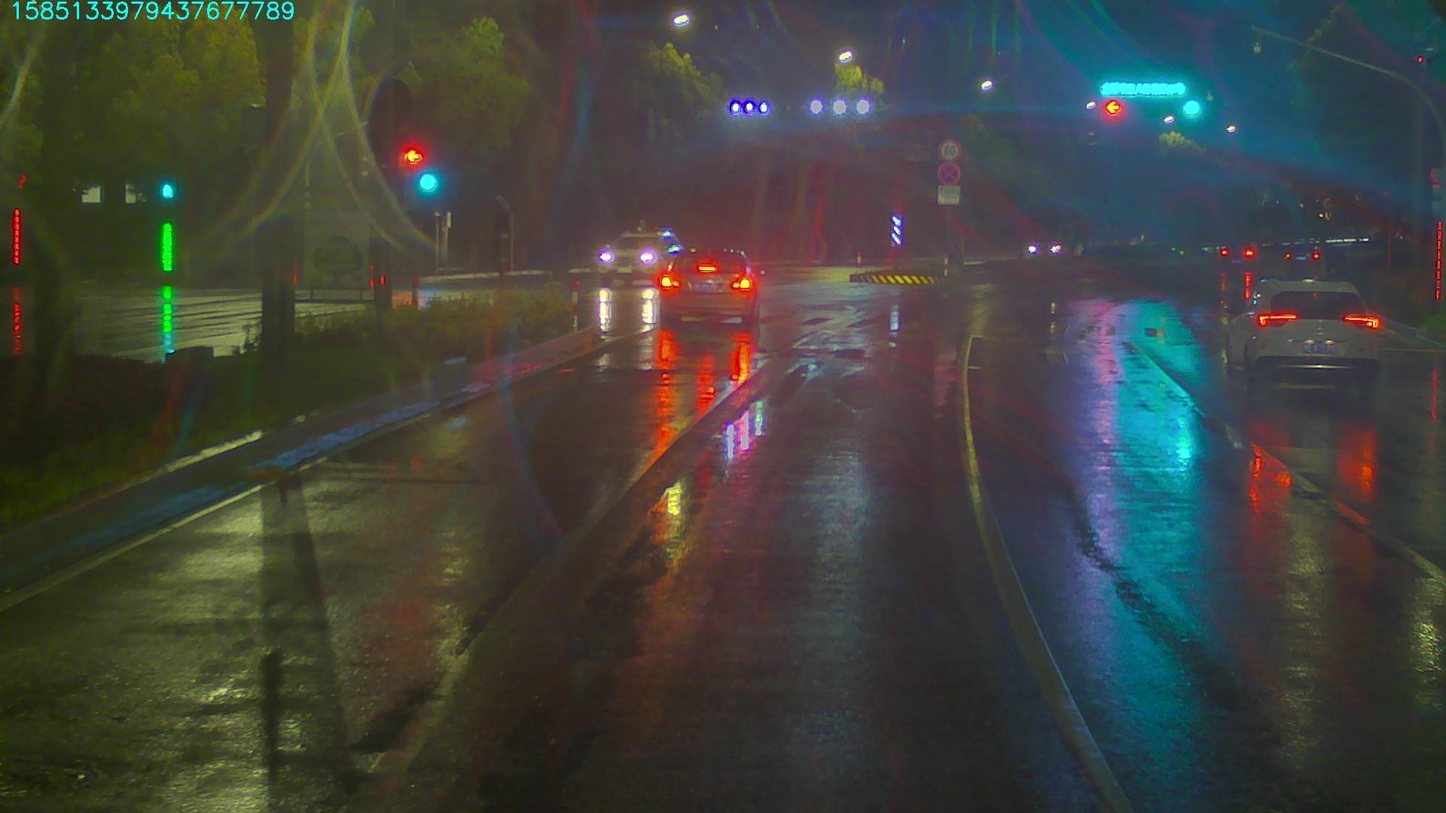green: (1176, 98, 1199, 120)
red: (1103, 99, 1124, 120)
wait_on: (1099, 81, 1194, 98)
